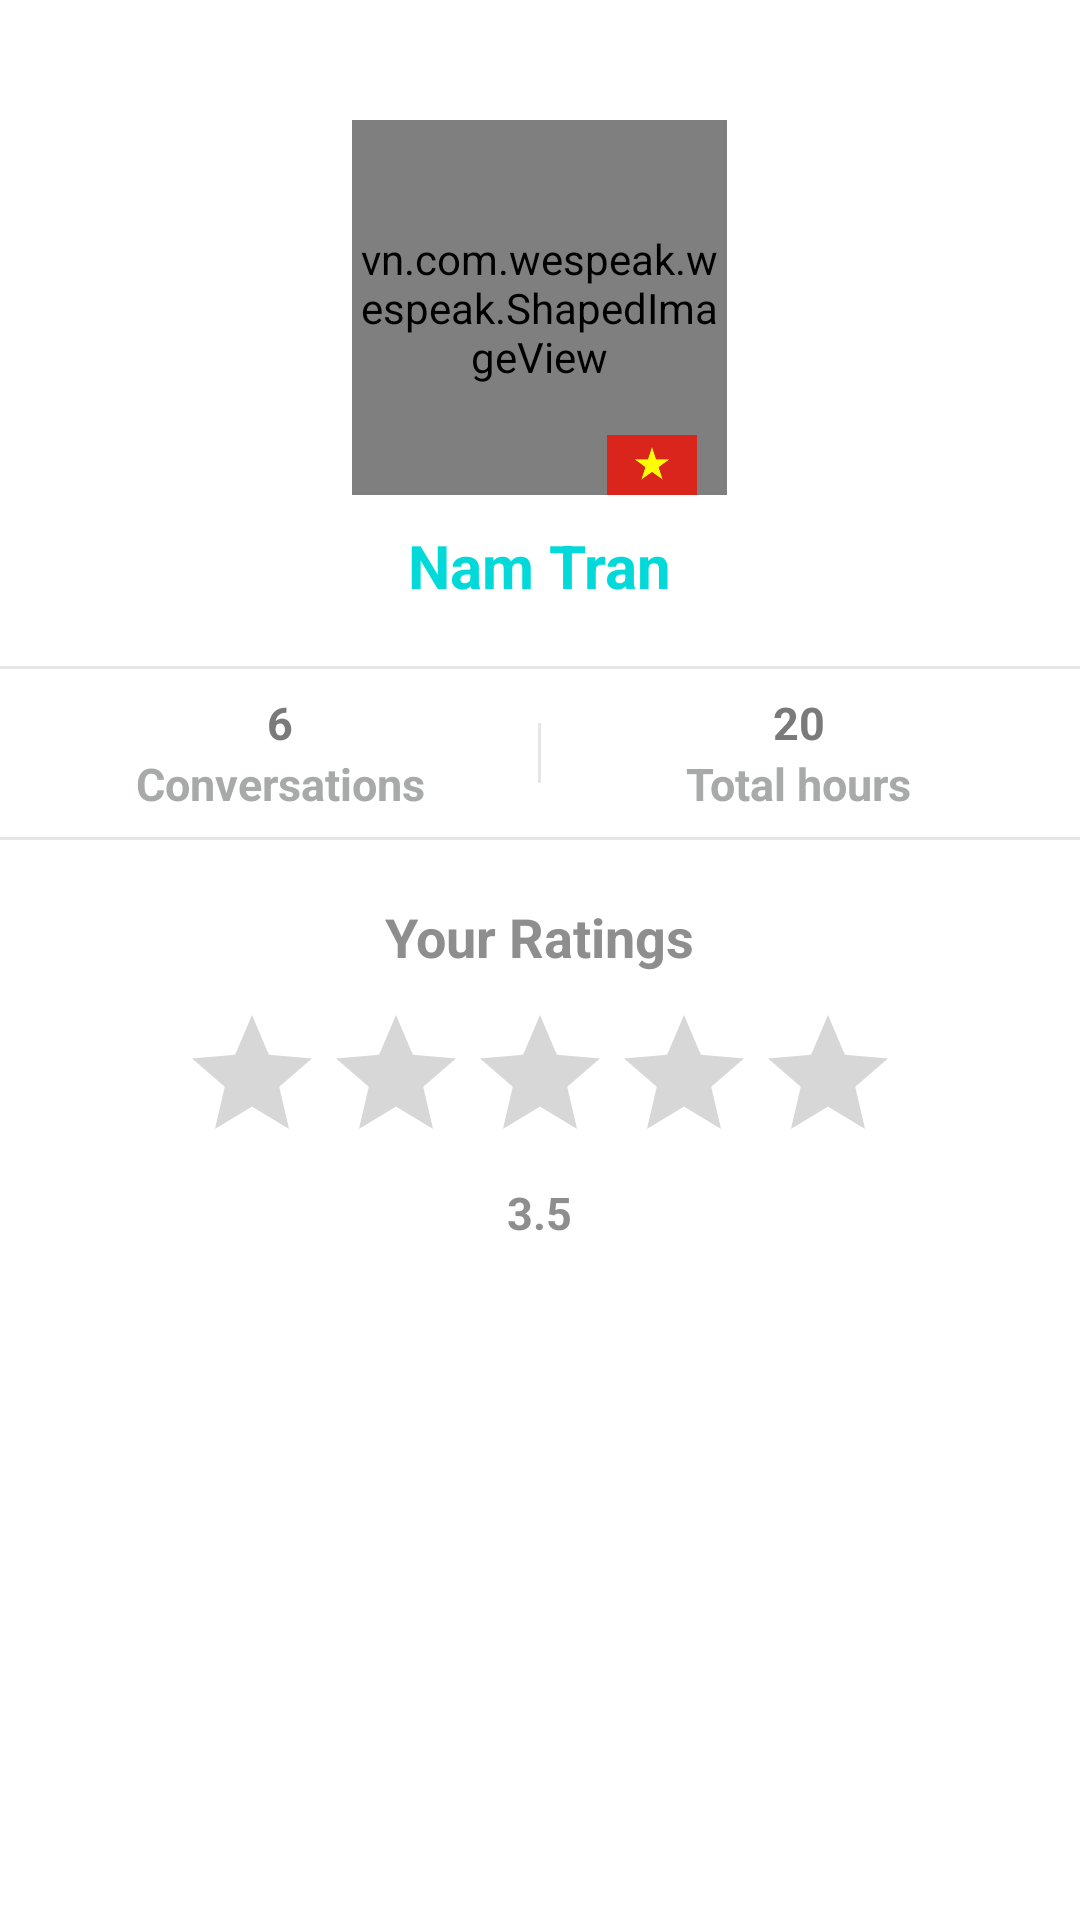

Icon click points for this 1080 × 1920 phone screenshot, format point (x, y):
vietnam national flag: point (652, 465)
